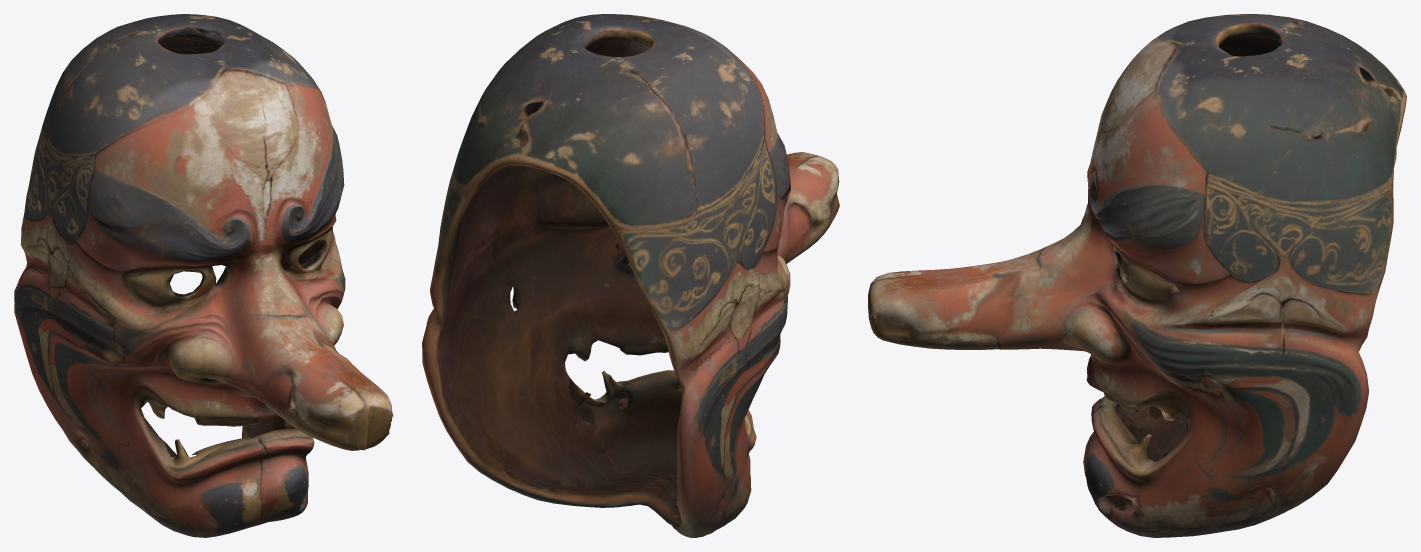
The model's file is Tengu_Mask_0703020618_texture.fbx.
3 views of the same model, side by side, from view 1: azimuth 30°, elevation 25°; view 2: azimuth 150°, elevation 25°; view 3: azimuth 270°, elevation 25° (orthographic). The views are drawn at different scales.
Parts seen in each view (by area): view 1: Mesh1; view 2: Mesh1; view 3: Mesh1.
Part boxes in pixels (left/top/right/bottom): Mesh1: left=14, top=14, right=393, bottom=537; Mesh1: left=422, top=14, right=839, bottom=537; Mesh1: left=868, top=14, right=1406, bottom=537.
Size of the model in its own units: 112 by 192 by 198.
Materials: 1 (1 with a texture image).
